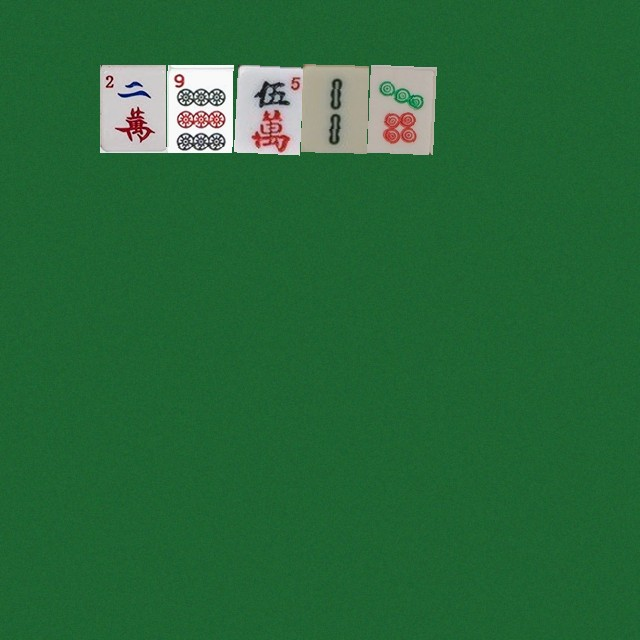tile: (99, 64, 165, 152), (166, 64, 232, 152), (233, 64, 299, 152), (300, 64, 366, 152), (367, 64, 433, 152)
